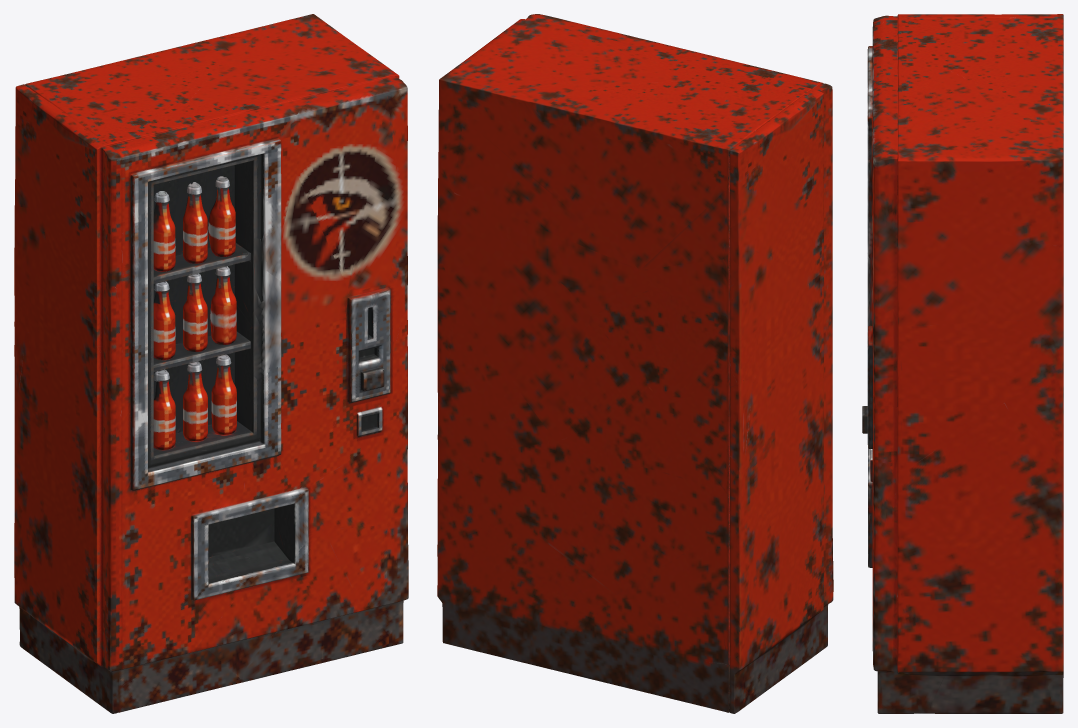
File: Meshy_AI_model.glb
The picture shows the model from 3 angles, left to right: view 1: azimuth 30°, elevation 25°; view 2: azimuth 150°, elevation 25°; view 3: azimuth 270°, elevation 25°; orthographic projection.
Size of the model in its own units: 1.07 by 1.9 by 0.622.
1 material, 1 textured.
